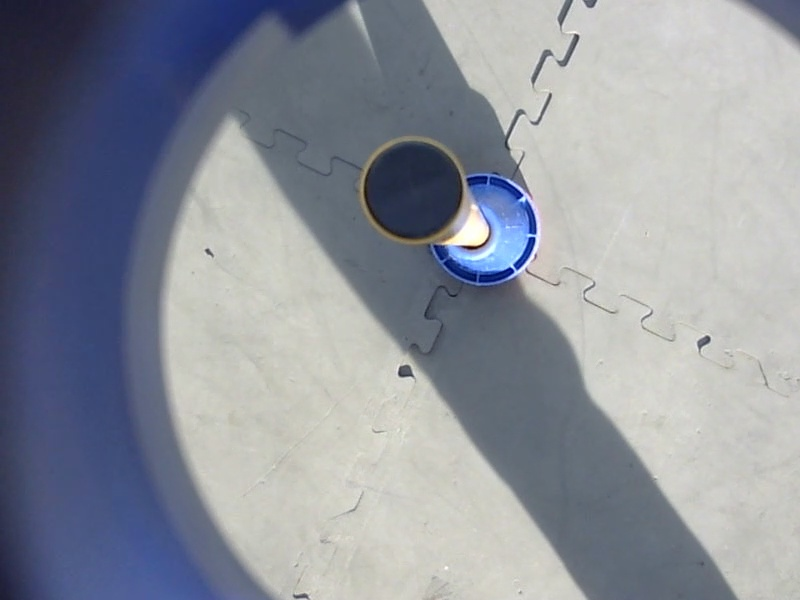tip: (354, 133, 470, 250)
